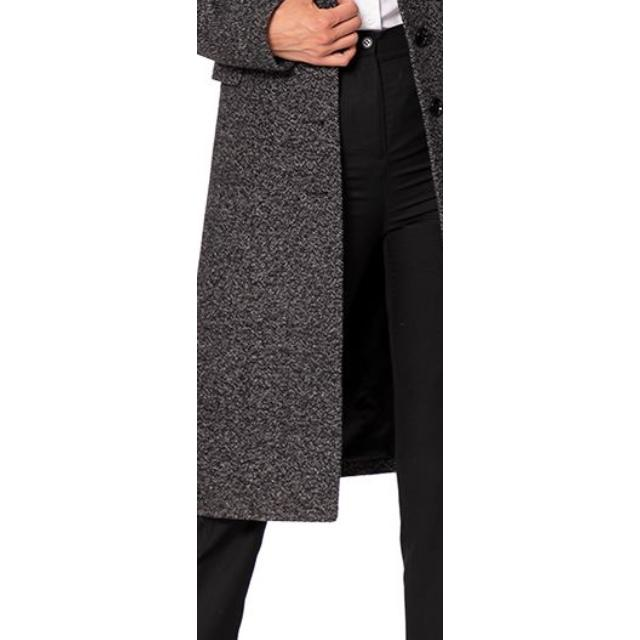wool: (197, 0, 443, 528)
